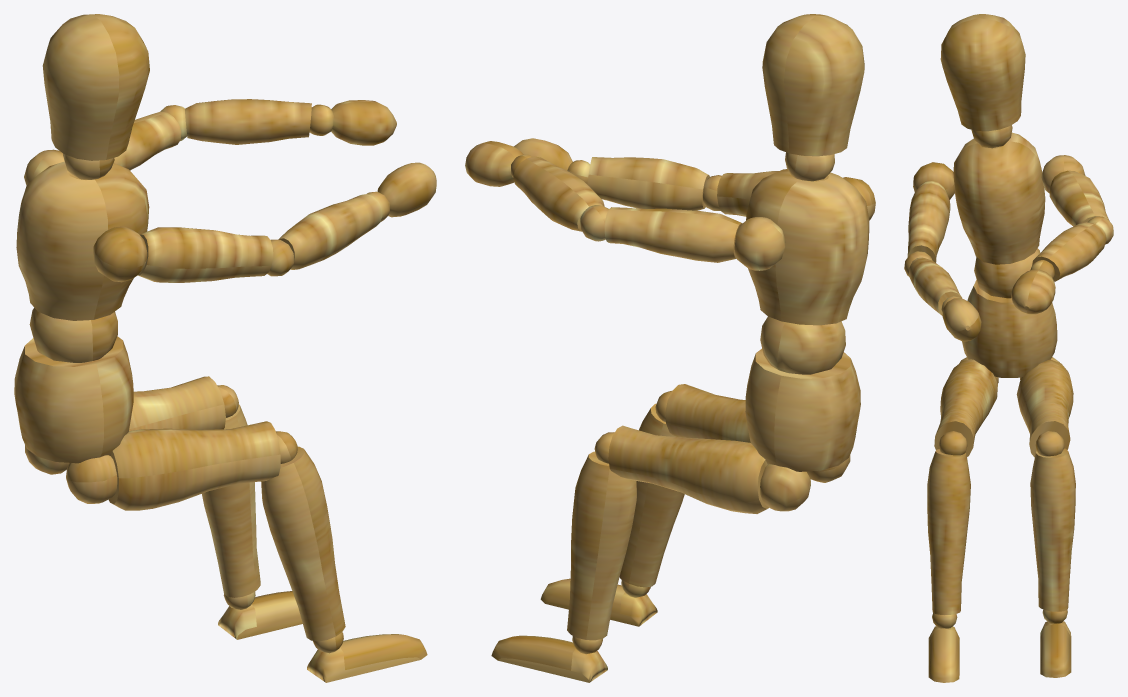
File: Human_Eating_01.obj
3 views of the same model, side by side, from view 1: azimuth 30°, elevation 25°; view 2: azimuth 150°, elevation 25°; view 3: azimuth 270°, elevation 25° (orthographic). The views are drawn at different scales.
Parts seen in each view (by area): view 1: chest, head, rThigh, hip, rShin, rShldr, lShin, lForeArm, rForeArm, lThigh, rFoot, lHand (+3 smaller); view 2: chest, head, lThigh, hip, lShin, lShldr, rForeArm, rShin, lForeArm, rThigh, lFoot, rFoot (+3 smaller); view 3: chest, head, lShin, rShin, hip, lThigh, rThigh, rShldr, lShldr, lForeArm, rFoot, lFoot (+3 smaller).
Part boxes in pixels (bbox=[...]): chest: bbox=[16, 161, 149, 362]; head: bbox=[42, 14, 149, 179]; rThigh: bbox=[66, 421, 280, 510]; hip: bbox=[14, 336, 133, 463]; rShin: bbox=[261, 431, 345, 641]; rShldr: bbox=[93, 226, 273, 282]; lShin: bbox=[202, 385, 260, 597]; lForeArm: bbox=[160, 99, 311, 144]; rForeArm: bbox=[267, 194, 382, 276]; lThigh: bbox=[25, 376, 225, 474]; rFoot: bbox=[307, 632, 427, 682]; lHand: bbox=[309, 100, 396, 145]; chest: bbox=[746, 169, 869, 374]; head: bbox=[762, 14, 864, 181]; lThigh: bbox=[608, 425, 810, 513]; hip: bbox=[745, 348, 860, 471]; lShin: bbox=[567, 432, 636, 640]; lShldr: bbox=[604, 207, 785, 270]; rForeArm: bbox=[587, 157, 721, 210]; rShin: bbox=[619, 391, 684, 587]; lForeArm: bbox=[513, 156, 608, 241]; rThigh: bbox=[665, 384, 850, 482]; lFoot: bbox=[491, 635, 607, 682]; rFoot: bbox=[540, 578, 657, 626]; chest: bbox=[953, 132, 1045, 298]; head: bbox=[940, 14, 1025, 148]; lShin: bbox=[1030, 431, 1075, 611]; rShin: bbox=[927, 431, 970, 614]; hip: bbox=[962, 280, 1057, 377]; lThigh: bbox=[1016, 357, 1073, 457]; rThigh: bbox=[934, 357, 998, 456]; rShldr: bbox=[907, 162, 954, 262]; lShldr: bbox=[1041, 155, 1109, 226]; lForeArm: bbox=[1032, 216, 1113, 281]; rFoot: bbox=[928, 613, 959, 682]; lFoot: bbox=[1040, 609, 1071, 677].
Bounding box in the file's own units: 0.3242 × 0.5495 × 0.1896.
Materials: 2 (2 with a texture image).
